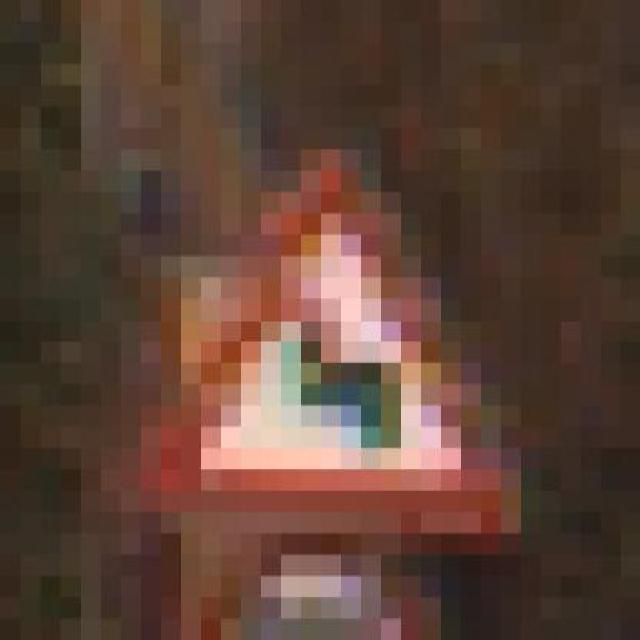Left Zig Zag Traffic: (99, 85, 558, 533)
